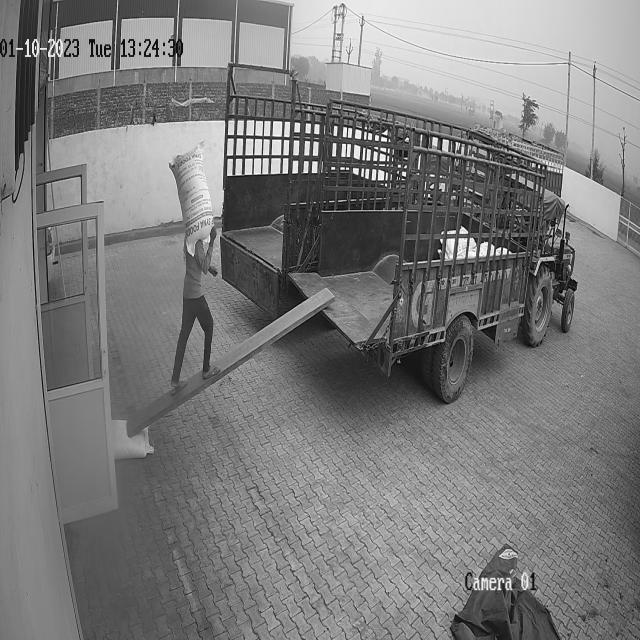sack: (170, 144, 213, 255), (112, 419, 154, 460)
